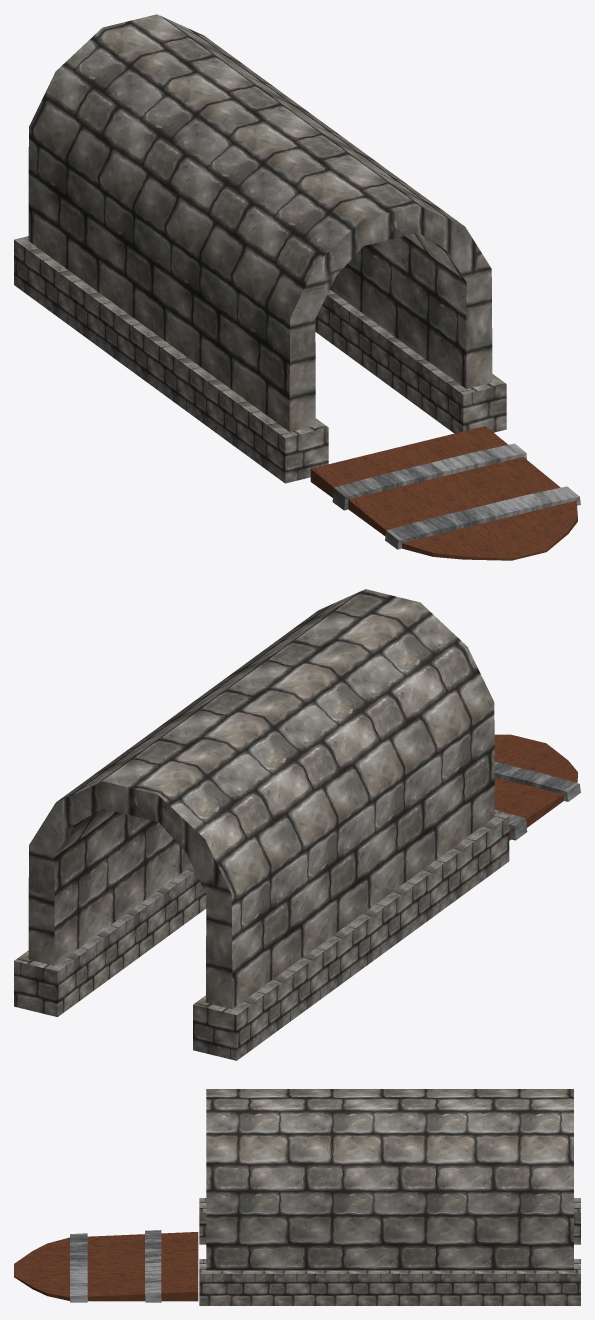
The model's file is Castle Entrance.FBX.
3 renders of one model, top to bottom at view 1: azimuth 30°, elevation 25°; view 2: azimuth 150°, elevation 25°; view 3: azimuth 270°, elevation 25°, orthographic. The views are drawn at different scales.
Parts seen in each view (by area): view 1: Box001; view 2: Box001; view 3: Box001.
Boxes of the visible parts, x1,y1,x2,y2 form: Box001: (14,14,580,560); Box001: (14,589,580,1060); Box001: (14,1089,580,1305).
Size of the model in its own units: 255 by 269 by 804.
1 material, 1 textured.
